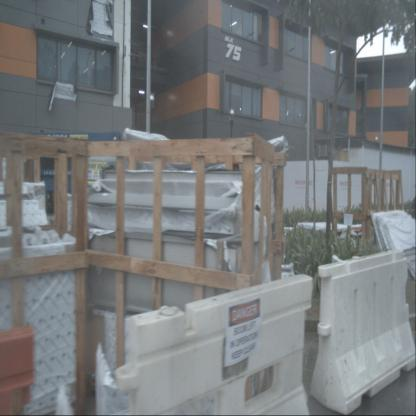movable_object-barrier: (115, 273, 312, 416), (310, 249, 416, 416)
